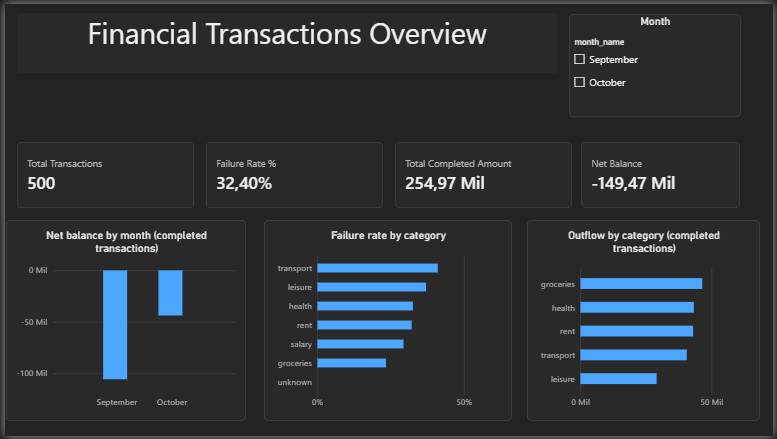

This screenshot's page, from the dashboard's own definition file:
{"tool":"powerbi","page":{"name":"Overview","canvas":[1280,720],"ordinal":0},"visuals":[{"type":"cardVisual","fields":{"Data":["fact_transactions.Total Transactions"]},"box":[20,230,295,110],"z":0},{"type":"cardVisual","fields":{"Data":["fact_transactions.Total Completed Amount"]},"box":[650,230,295,110],"z":1000},{"type":"cardVisual","fields":{"Data":["fact_transactions.Failure Rate %"]},"box":[335,230,295,110],"z":2000},{"type":"cardVisual","fields":{"Data":["fact_transactions.Net Balance"]},"box":[960,230,265,110],"z":3000},{"type":"clusteredColumnChart","title":"Net balance by month (completed transactions)","fields":{"Category":["dim_date.month_name"],"Y":["fact_transactions.Net Balance"]},"box":[1.7,360,400,335],"z":4000},{"type":"clusteredBarChart","title":"Failure rate by category","fields":{"Category":["dim_category.category_name"],"Y":["fact_transactions.Failure Rate %"]},"box":[431.7,360,413.3,335],"z":6000},{"type":"clusteredBarChart","title":"Outflow by category (completed transactions)","fields":{"Category":["dim_category.category_name"],"Y":["fact_transactions.Outflow Amount"]},"box":[870,360,388.3,335],"z":7000},{"type":"slicer","title":"Month","fields":{"Values":["dim_date.month_name"]},"box":[940,16,286,172],"z":8000},{"type":"textbox","box":[20,15,900,100],"z":9000}]}

Visuals, with their boxes in screenshot pixels (x1, y1, x2, y2), scaled from the page's 1280x720 canvas onto the 777x439 screenshot:
cardVisual - fact_transactions.Total Transactions: {"x1": 12, "y1": 140, "x2": 191, "y2": 207}
cardVisual - fact_transactions.Total Completed Amount: {"x1": 395, "y1": 140, "x2": 574, "y2": 207}
cardVisual - fact_transactions.Failure Rate %: {"x1": 203, "y1": 140, "x2": 382, "y2": 207}
cardVisual - fact_transactions.Net Balance: {"x1": 583, "y1": 140, "x2": 744, "y2": 207}
"Net balance by month (completed transactions)" clusteredColumnChart: {"x1": 1, "y1": 220, "x2": 244, "y2": 424}
"Failure rate by category" clusteredBarChart: {"x1": 262, "y1": 220, "x2": 513, "y2": 424}
"Outflow by category (completed transactions)" clusteredBarChart: {"x1": 528, "y1": 220, "x2": 764, "y2": 424}
"Month" slicer: {"x1": 571, "y1": 10, "x2": 744, "y2": 115}
textbox: {"x1": 12, "y1": 9, "x2": 558, "y2": 70}
